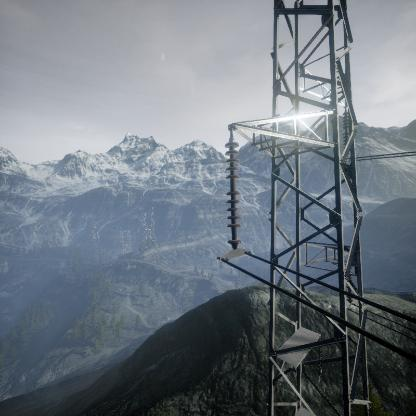insulator: (222, 137, 243, 250)
